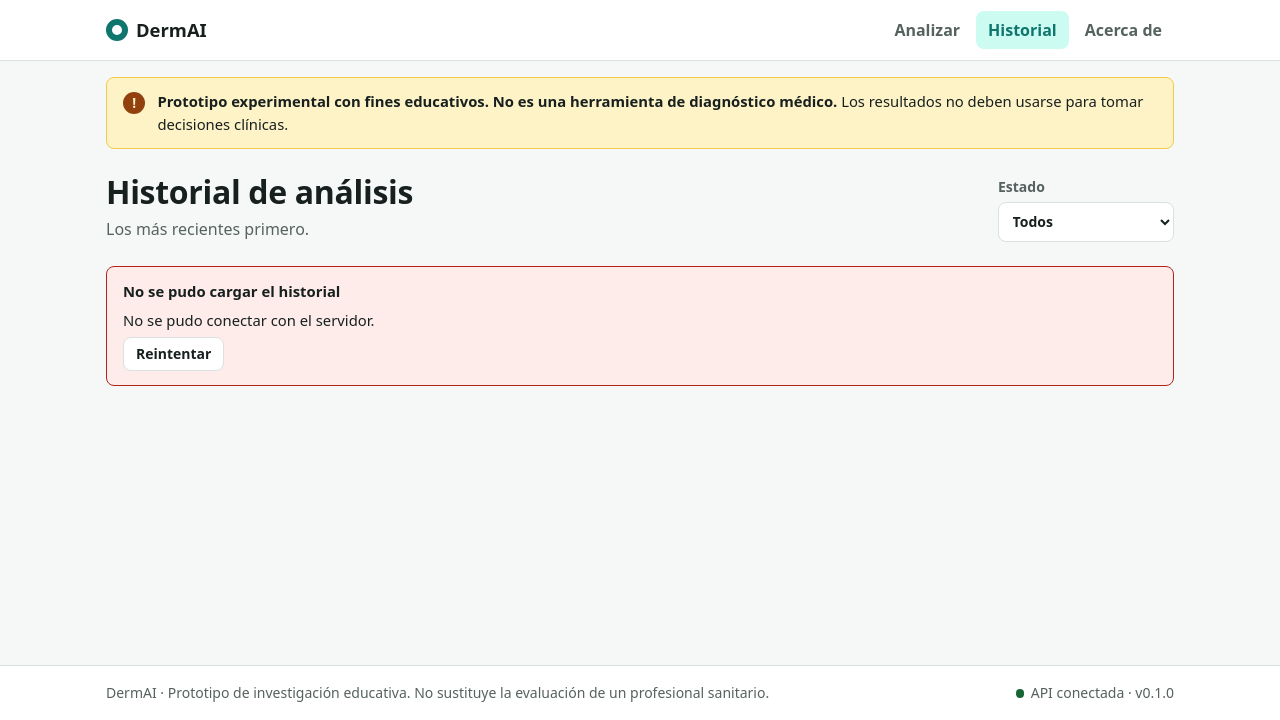
HistoryPage › muestra el error y permite reintentar
Check: the message "No se pudo cargar el historial No se pudo conectar con el servidor. Reintentar" is shown, box [106, 266, 1174, 386]
Click the button "Reintentar" at (174, 354), box [123, 337, 224, 371]
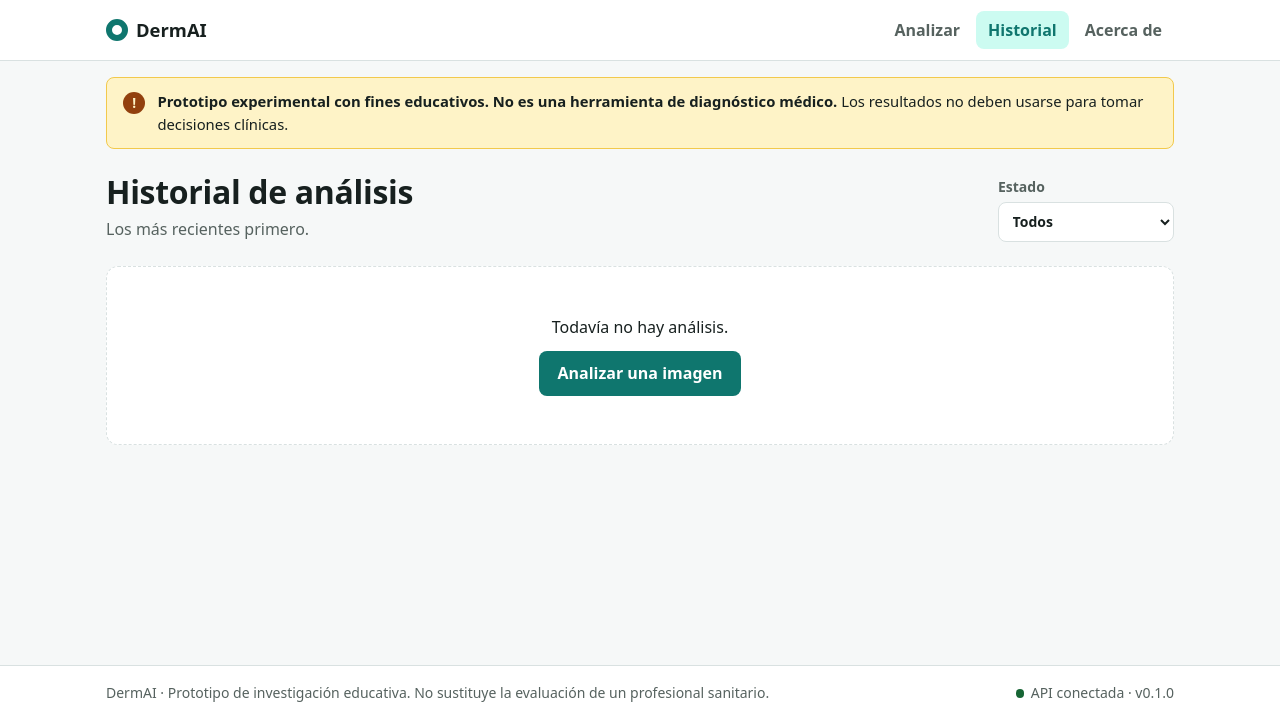
Check: the text "Todavía no hay análisis." is shown, box [552, 315, 728, 339]
